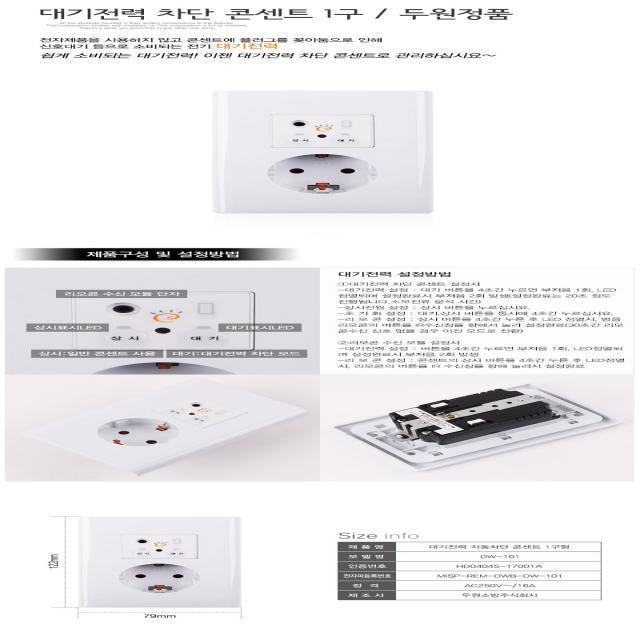typeb: (188, 78, 473, 226), (38, 380, 331, 480), (46, 507, 267, 633)
